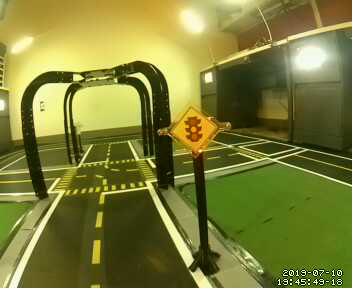Traffic light sign: (171, 107, 219, 152)
